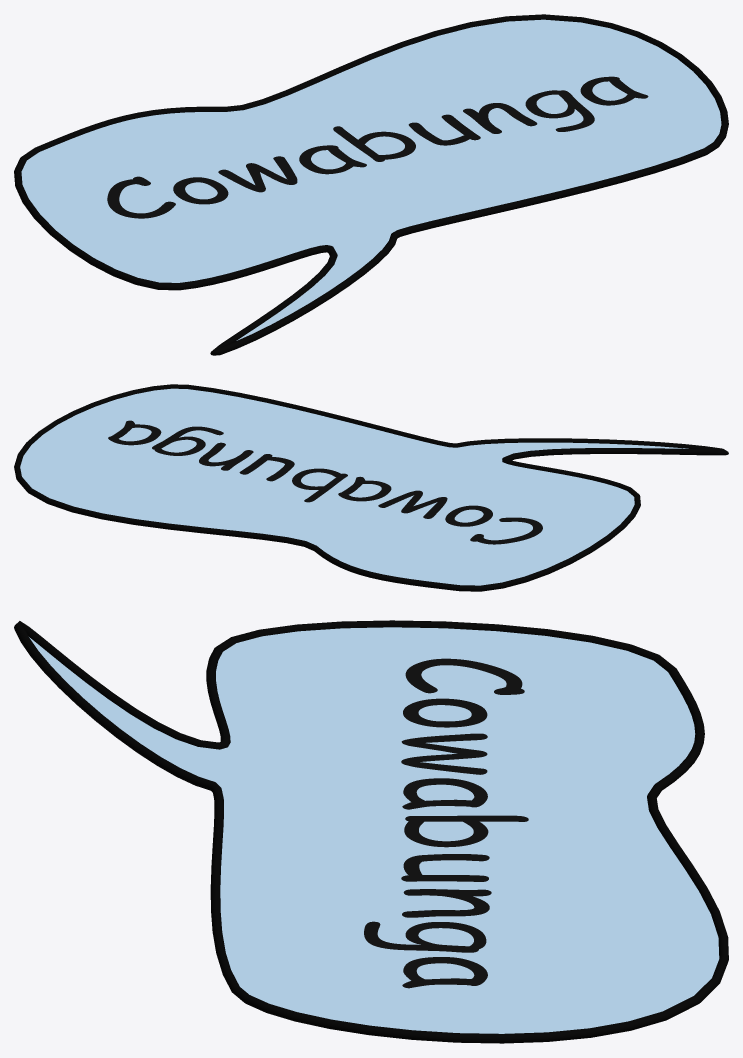
File: Cowabunga.fbx
The picture shows the model from 3 angles, top to bottom: view 1: azimuth 30°, elevation 25°; view 2: azimuth 150°, elevation 25°; view 3: azimuth 270°, elevation 25°; orthographic projection. The views are drawn at different scales.
Parts seen in each view (by area): view 1: BezierCircle.010, BezierCircle.011, Text.005; view 2: BezierCircle.010, BezierCircle.011, Text.005; view 3: BezierCircle.010, BezierCircle.011, Text.005.
Boxes of the visible parts, x1,y1,x2,y2 form: BezierCircle.010: (21, 19, 721, 340); BezierCircle.011: (14, 14, 728, 355); Text.005: (107, 76, 648, 218); BezierCircle.010: (20, 388, 688, 585); BezierCircle.011: (14, 384, 728, 591); Text.005: (108, 420, 542, 544); BezierCircle.010: (29, 627, 719, 1033); BezierCircle.011: (14, 620, 728, 1043); Text.005: (364, 658, 528, 988).
Bounding box in the file's own units: 205 × 2.58 × 148.
